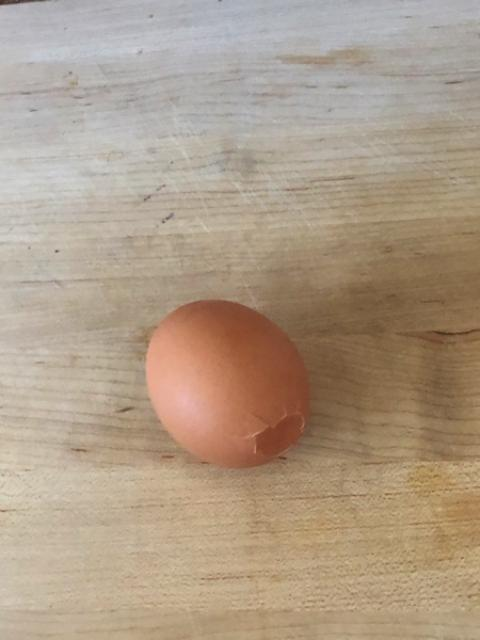Roto: (144, 297, 310, 468)
